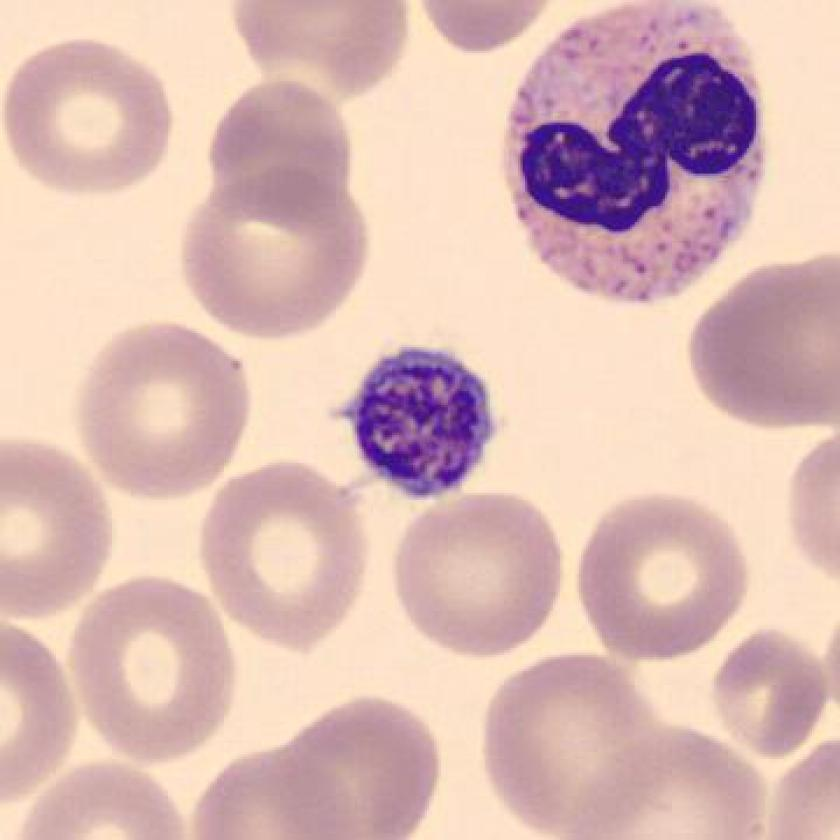platelets: (342, 346, 505, 505)
